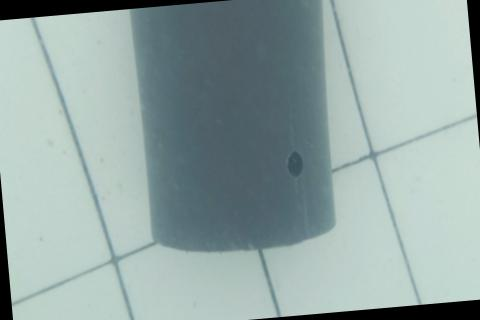kebocoran: (283, 147, 306, 179)
